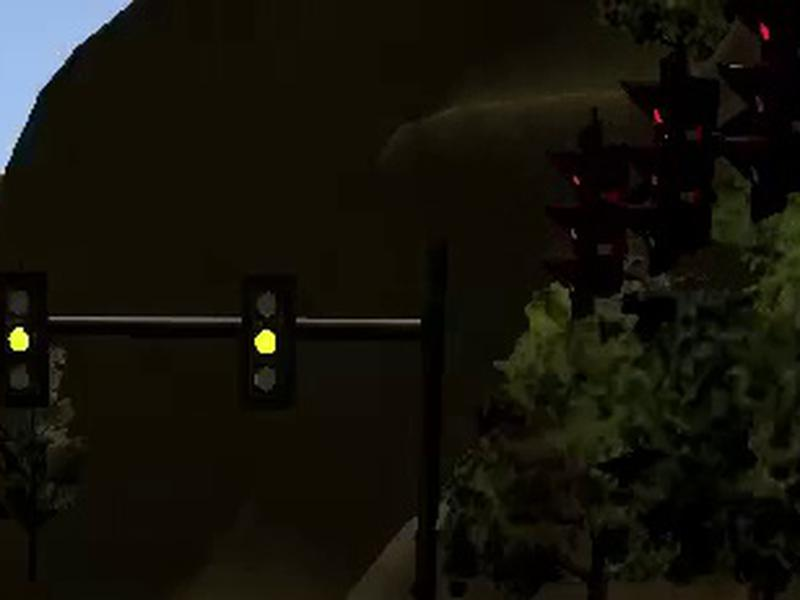Yellow: (240, 271, 297, 412), (1, 269, 50, 408)
